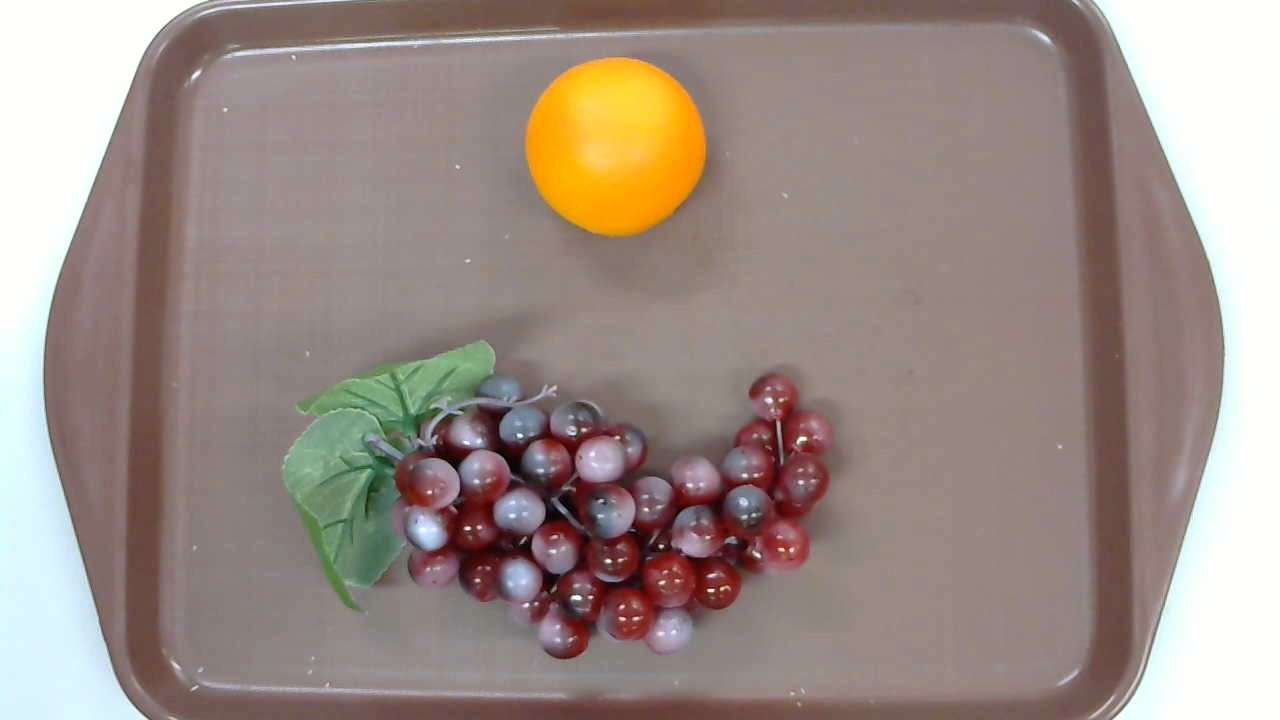bun: (526, 56, 707, 238)
grape: (281, 339, 834, 660)
